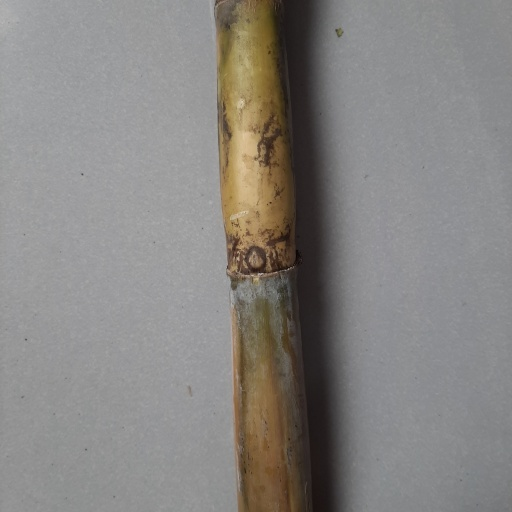Bud: (244, 246, 268, 273)
